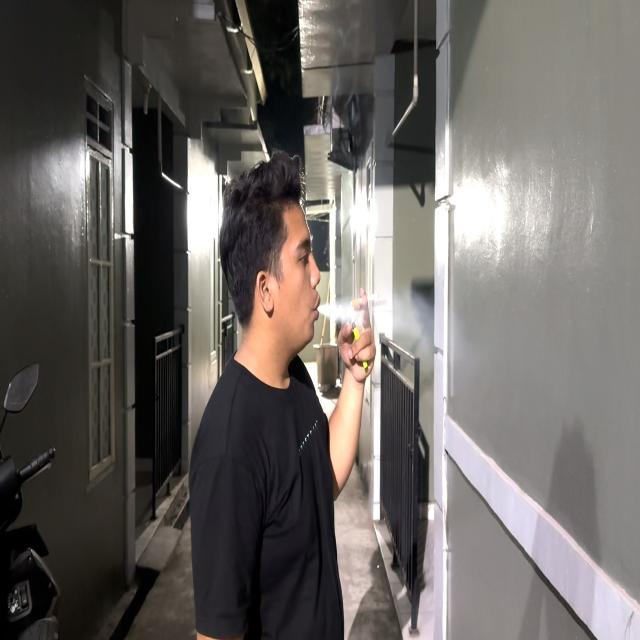cigarette: (350, 292, 380, 307)
smoking: (218, 143, 380, 504)
